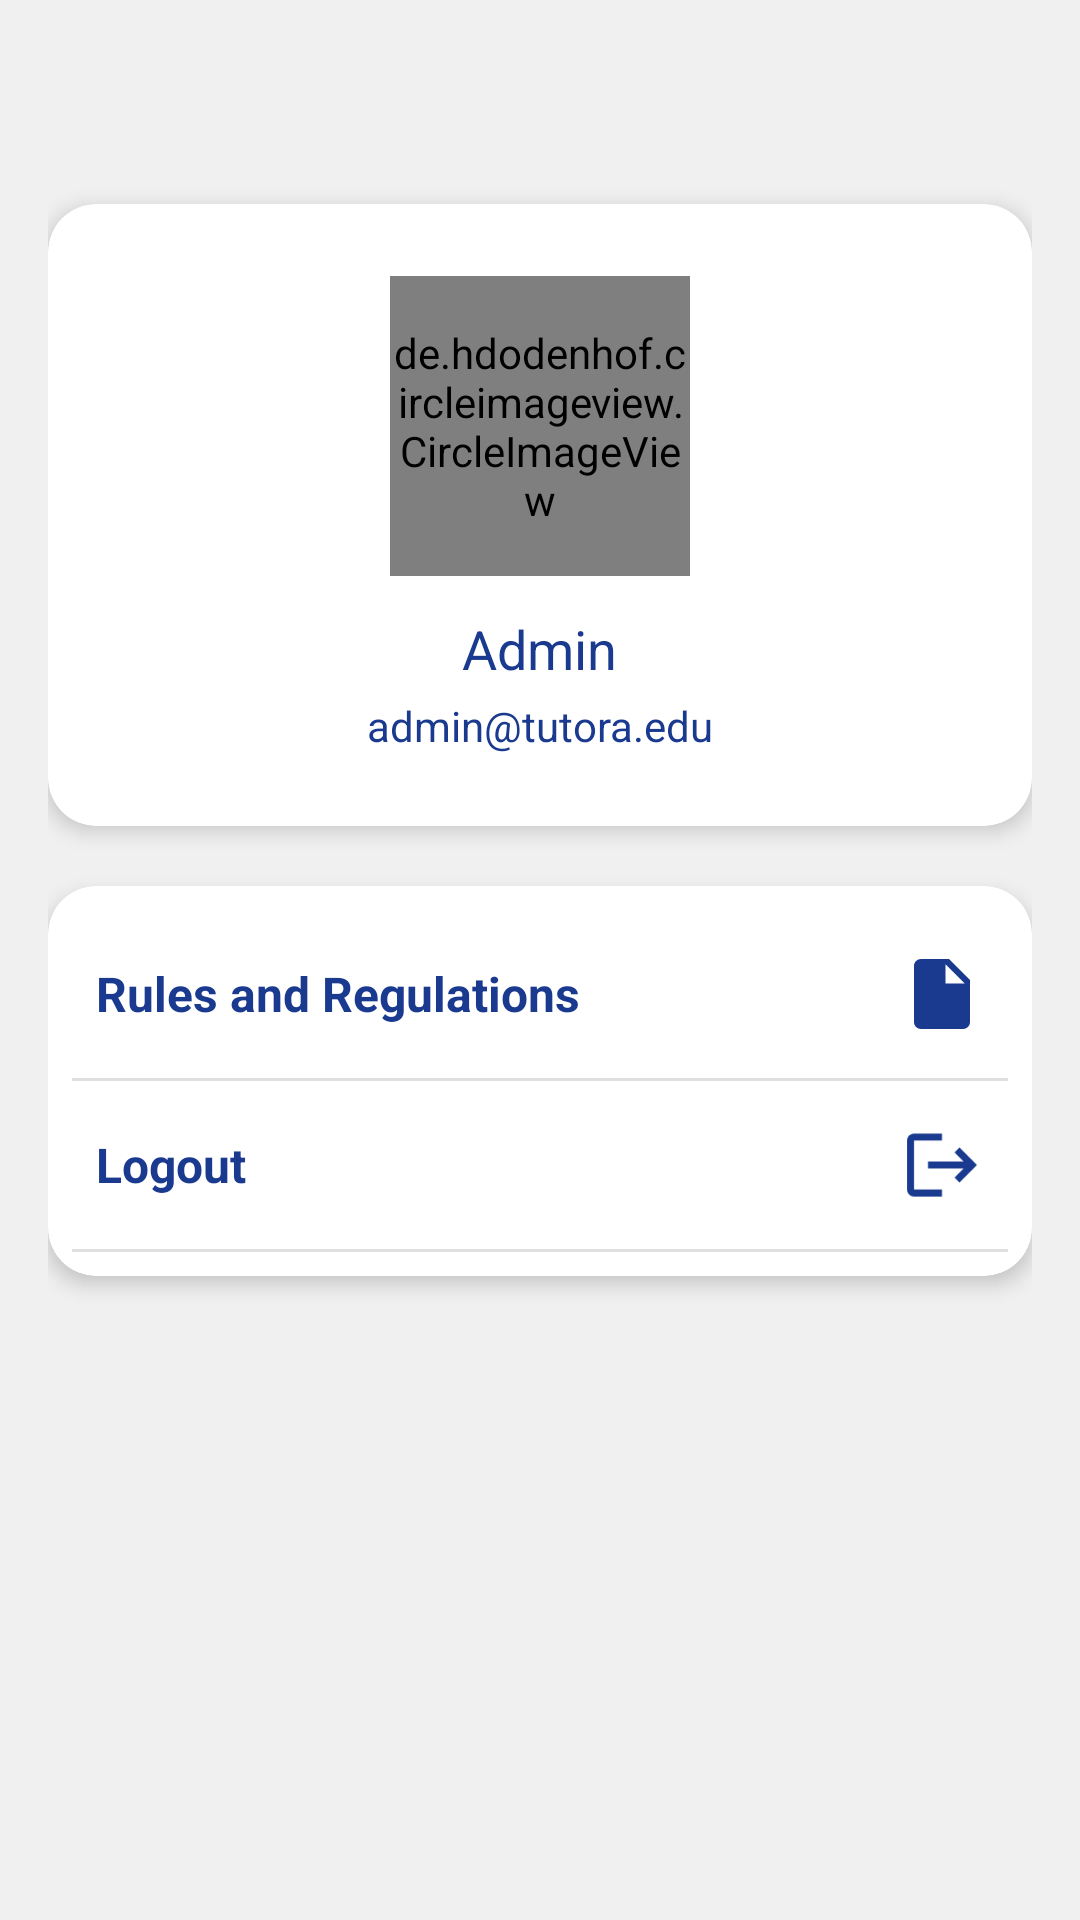

Locate icon controls on the screen. Image size 1080*1920, boxes as box=[x1, y1, x2, y2].
Rules: box=[914, 959, 970, 1029]
